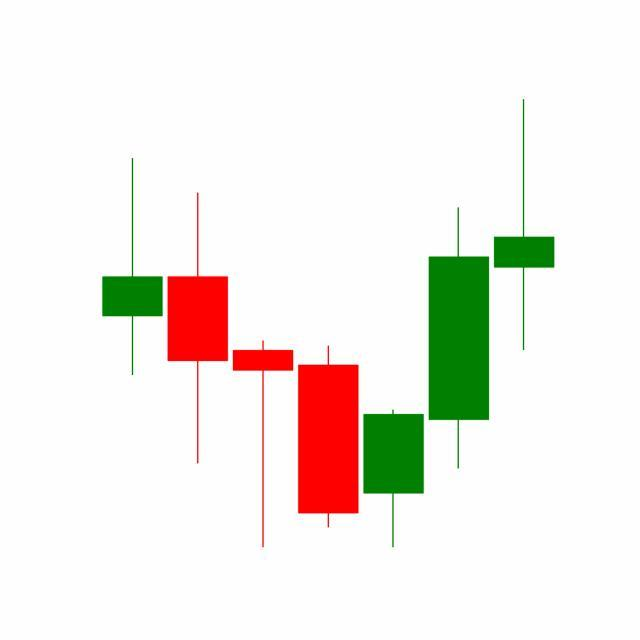Hikkake Pattern: (165, 189, 492, 549)
